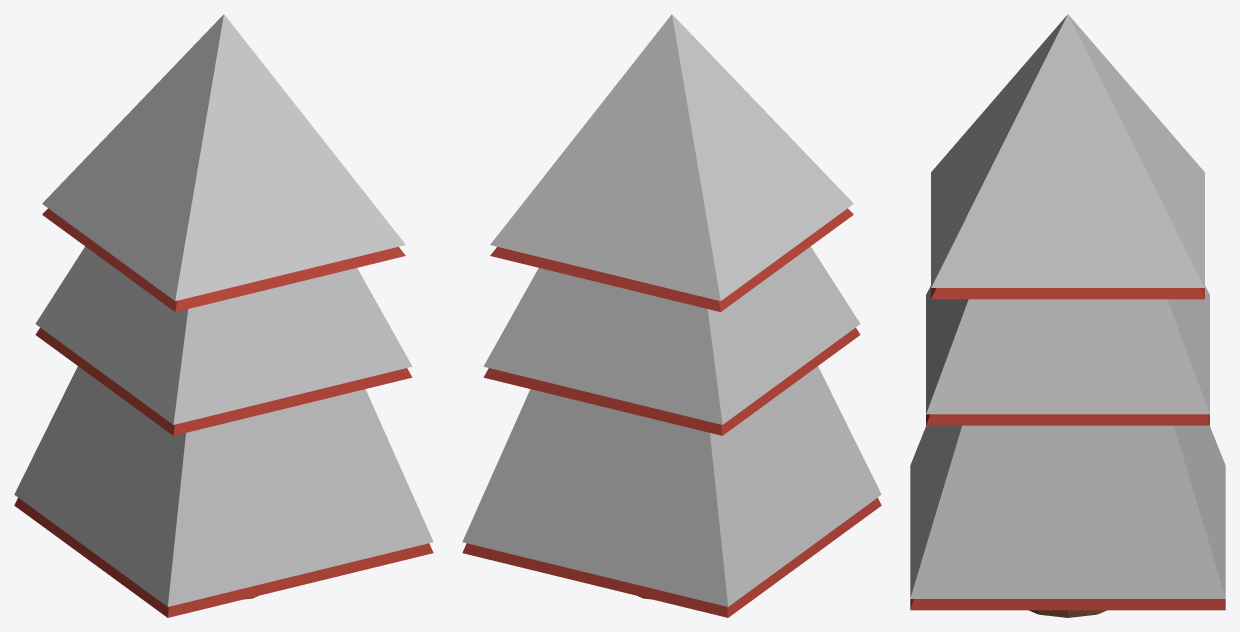
The model's file is Tree_18_winter_red_vc.fbx.
3 views of the same model, side by side, from view 1: azimuth 30°, elevation 25°; view 2: azimuth 150°, elevation 25°; view 3: azimuth 270°, elevation 25° (orthographic). The views are drawn at different scales.
Parts seen in each view (by area): view 1: Tree_18_winter_red_vc; view 2: Tree_18_winter_red_vc; view 3: Tree_18_winter_red_vc.
Part boxes in pixels (x1,y1,x2,y2): Tree_18_winter_red_vc: [14, 14, 433, 617]; Tree_18_winter_red_vc: [462, 14, 881, 617]; Tree_18_winter_red_vc: [910, 14, 1225, 617].
Bounding box in the file's own units: 95.96 × 194 × 95.96.
